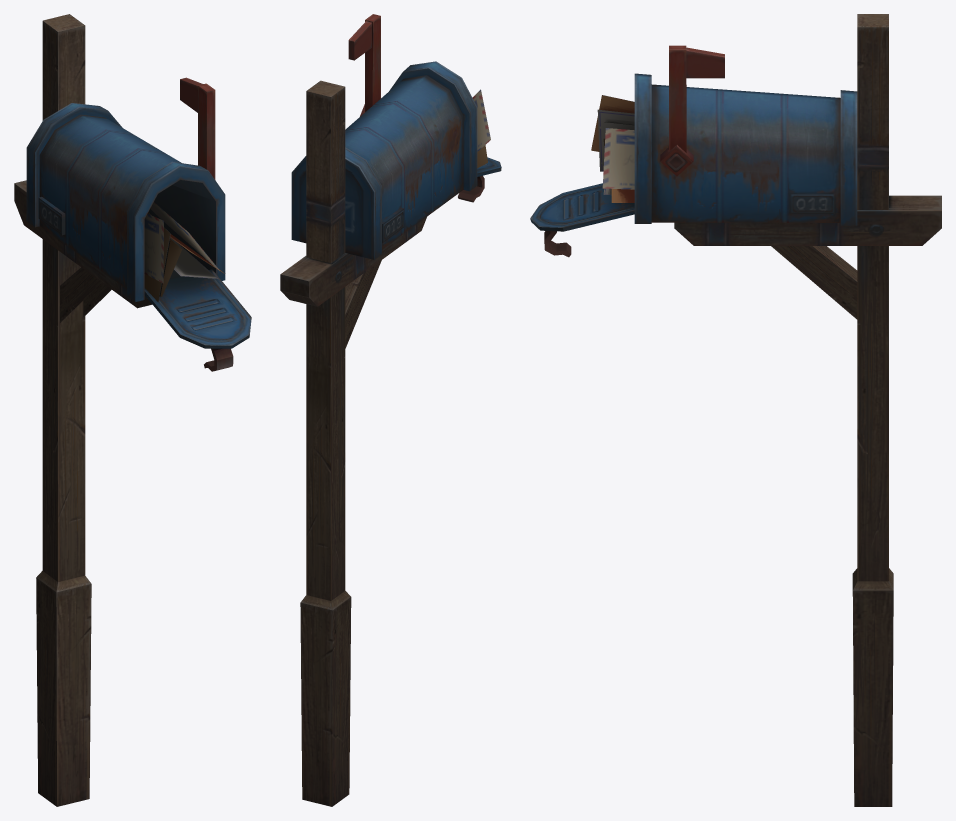
The model's file is mf_expressfull.FBX.
3 renders of one model, left to right at view 1: azimuth 30°, elevation 25°; view 2: azimuth 150°, elevation 25°; view 3: azimuth 270°, elevation 25°, orthographic. The views are drawn at different scales.
Parts seen in each view (by area): view 1: mf_expressfull; view 2: mf_expressfull; view 3: mf_expressfull.
Boxes of the visible parts, x1,y1,x2,y2 form: mf_expressfull: [14, 14, 251, 806]; mf_expressfull: [280, 14, 501, 806]; mf_expressfull: [530, 14, 941, 806].
Size of the model in its own units: 0.1885 by 1.38 by 0.6606.
1 material, 1 textured.
